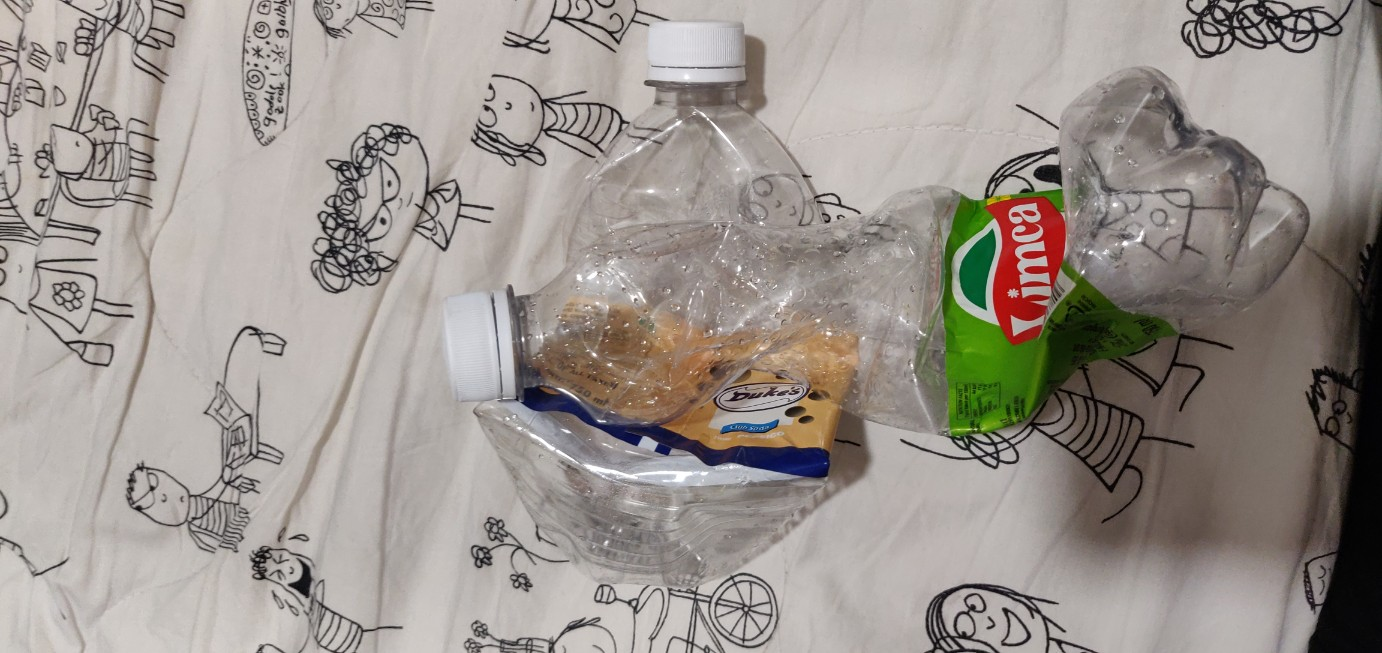Electronics: (431, 42, 1335, 460), (462, 8, 901, 642)
